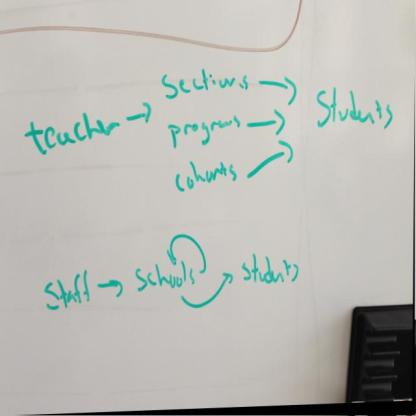Handwritten text: (124, 206, 314, 306), (312, 82, 403, 150), (17, 109, 125, 155), (36, 254, 102, 320), (159, 64, 249, 105), (165, 159, 245, 203), (168, 112, 247, 149)
Whiteboard: (0, 2, 416, 416), (385, 216, 416, 256)
